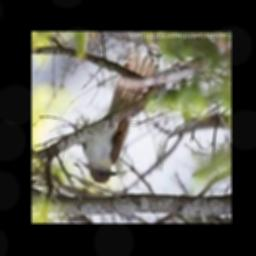Cuckoo: (82, 53, 159, 184)
